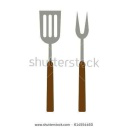Fork: (70, 8, 100, 120)
